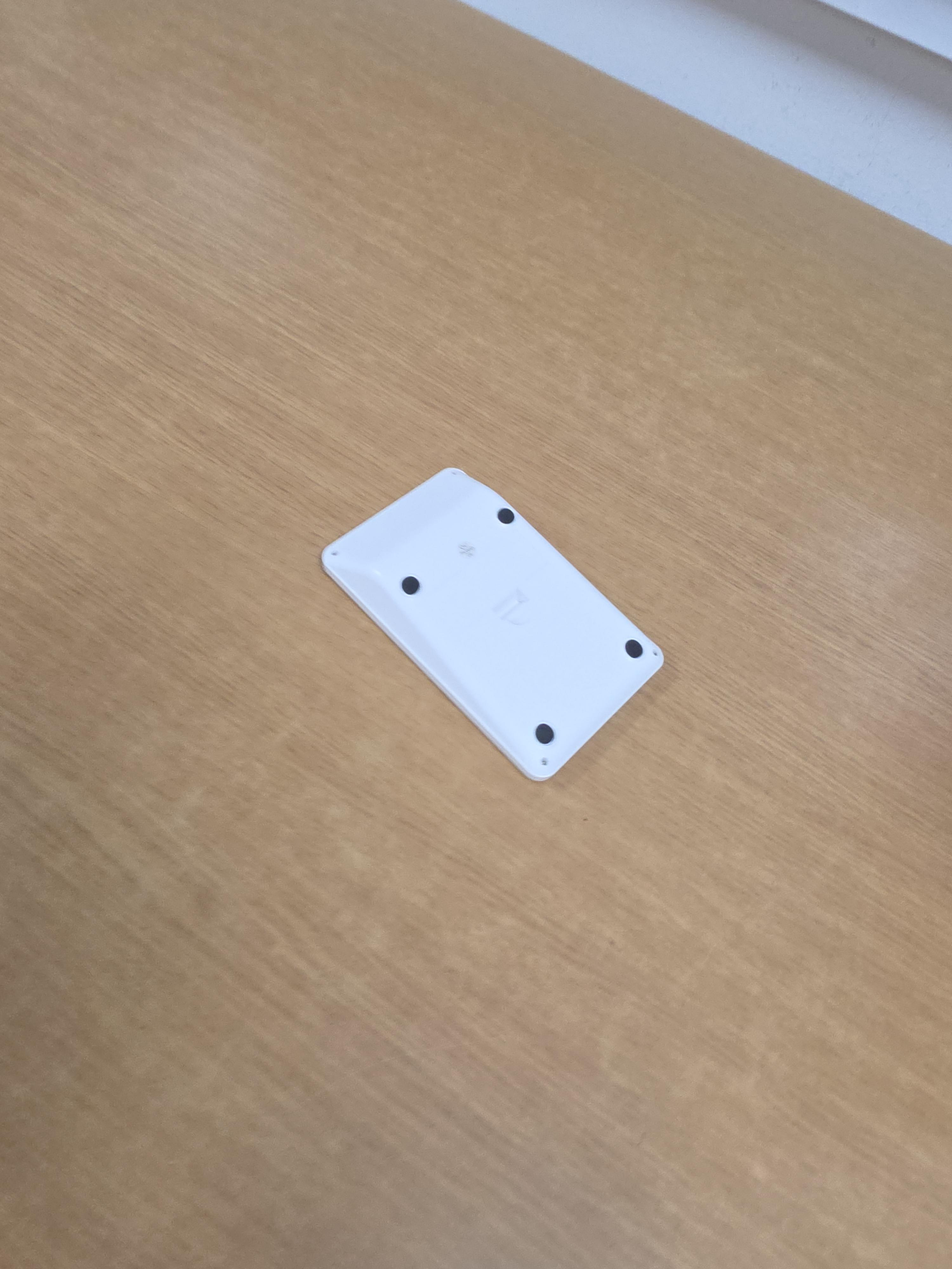calculator: (321, 467, 664, 782)
